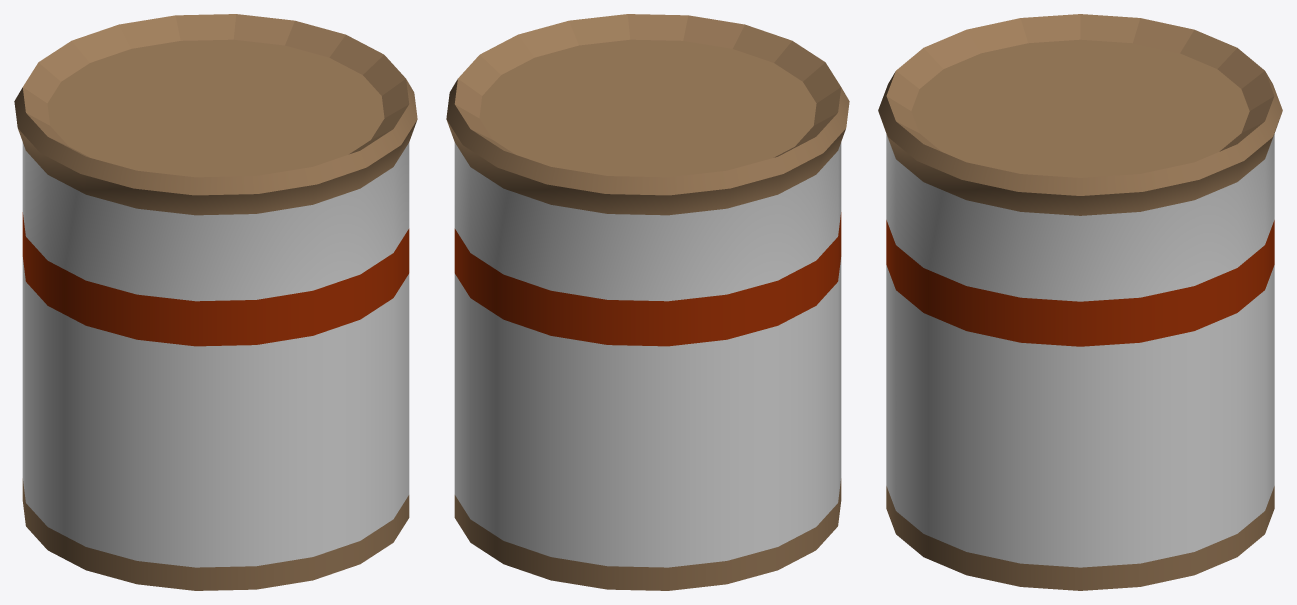
The model's file is PaintCan.fbx.
3 renders of one model, left to right at view 1: azimuth 30°, elevation 25°; view 2: azimuth 150°, elevation 25°; view 3: azimuth 270°, elevation 25°, orthographic.
Parts seen in each view (by area): view 1: pCylinder1; view 2: pCylinder1; view 3: pCylinder1.
Boxes of the visible parts, x1,y1,x2,y2 form: pCylinder1: (14,14,417,590); pCylinder1: (446,14,849,590); pCylinder1: (878,14,1282,590).
Bounding box in the file's own units: 2.09 × 2.35 × 2.09.
